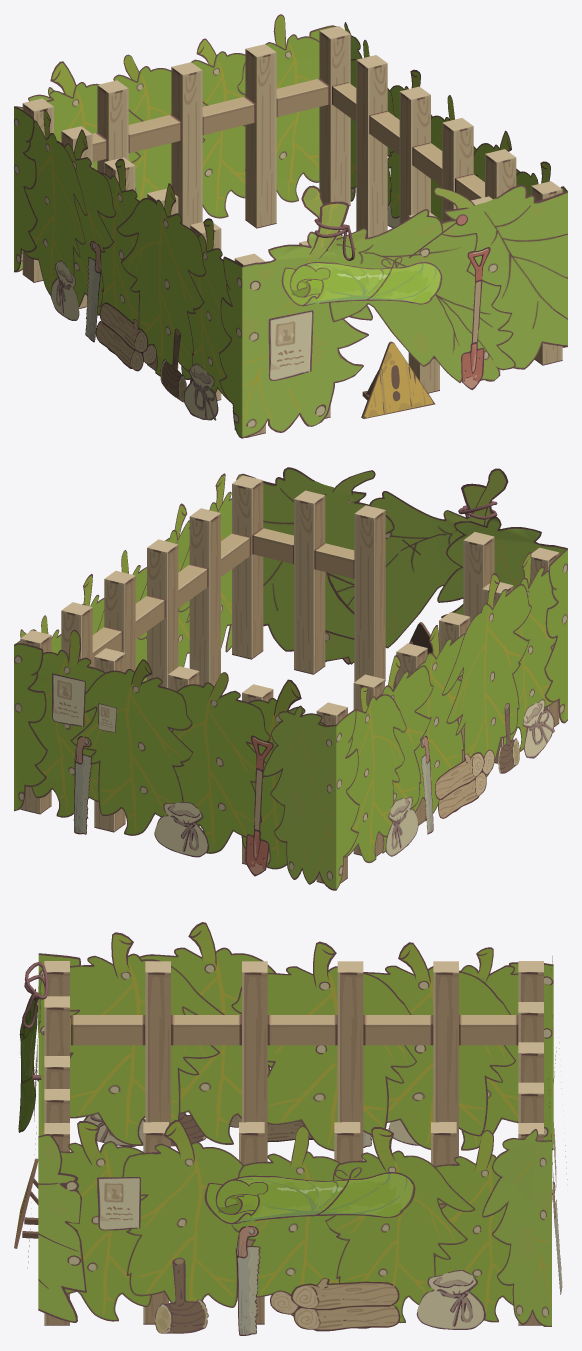
File: Mesh_Home_Construction_54_SM.fbx
3 renders of one model, top to bottom at view 1: azimuth 30°, elevation 25°; view 2: azimuth 150°, elevation 25°; view 3: azimuth 270°, elevation 25°, orthographic. The views are drawn at different scales.
Visible parts, largest first — view 1: Mesh_Home_Construction_54_P, Mesh_Home_Construction_54; view 2: Mesh_Home_Construction_54_P, Mesh_Home_Construction_54; view 3: Mesh_Home_Construction_54_P, Mesh_Home_Construction_54.
Part boxes in pixels (<box>): Mesh_Home_Construction_54_P: <box>24,14,550,420</box>; Mesh_Home_Construction_54: <box>14,22,567,438</box>; Mesh_Home_Construction_54_P: <box>30,468,556,876</box>; Mesh_Home_Construction_54: <box>14,467,567,890</box>; Mesh_Home_Construction_54_P: <box>18,922,567,1335</box>; Mesh_Home_Construction_54: <box>14,953,553,1326</box>.
Bounding box in the file's own units: 428 × 285 × 523.
1 material, 1 textured.
